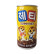paper: (16, 5, 37, 51)
